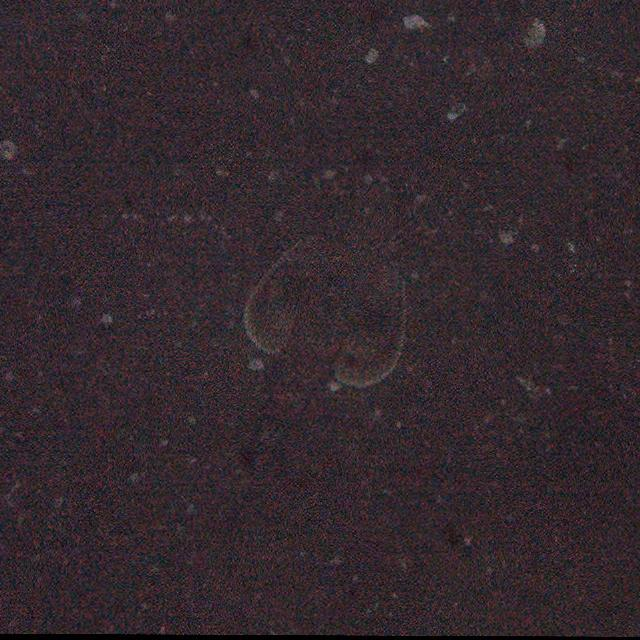roundfish: (235, 216, 410, 478)
